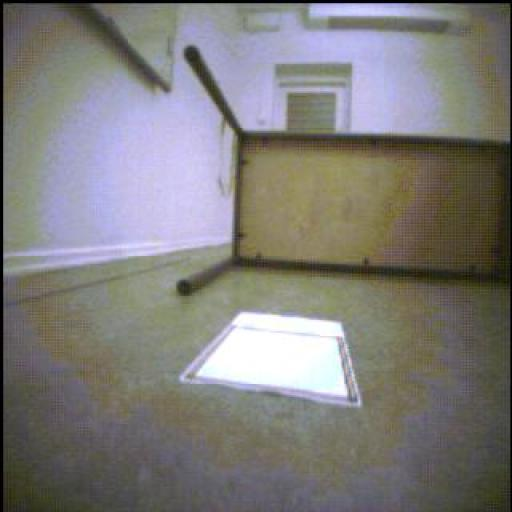Pad: (182, 313, 363, 407)
